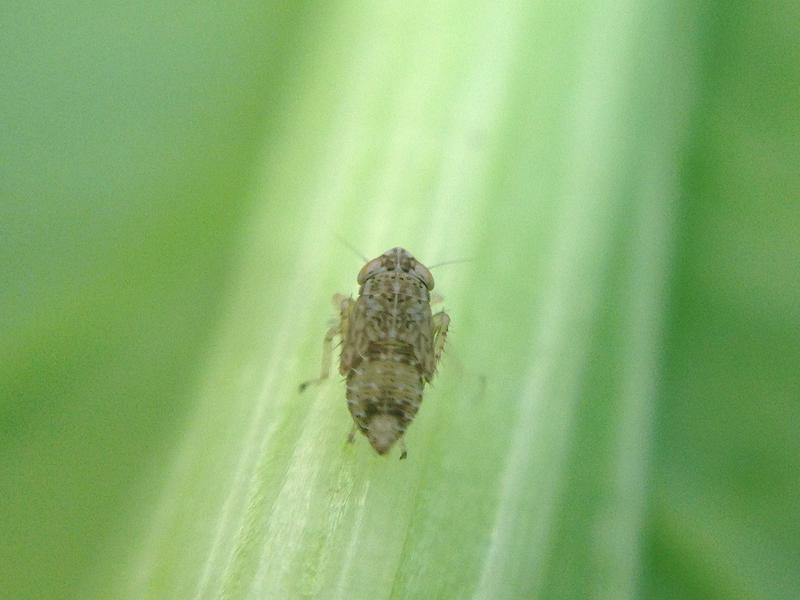Brown_plant_leafhopper: (289, 225, 472, 461)
